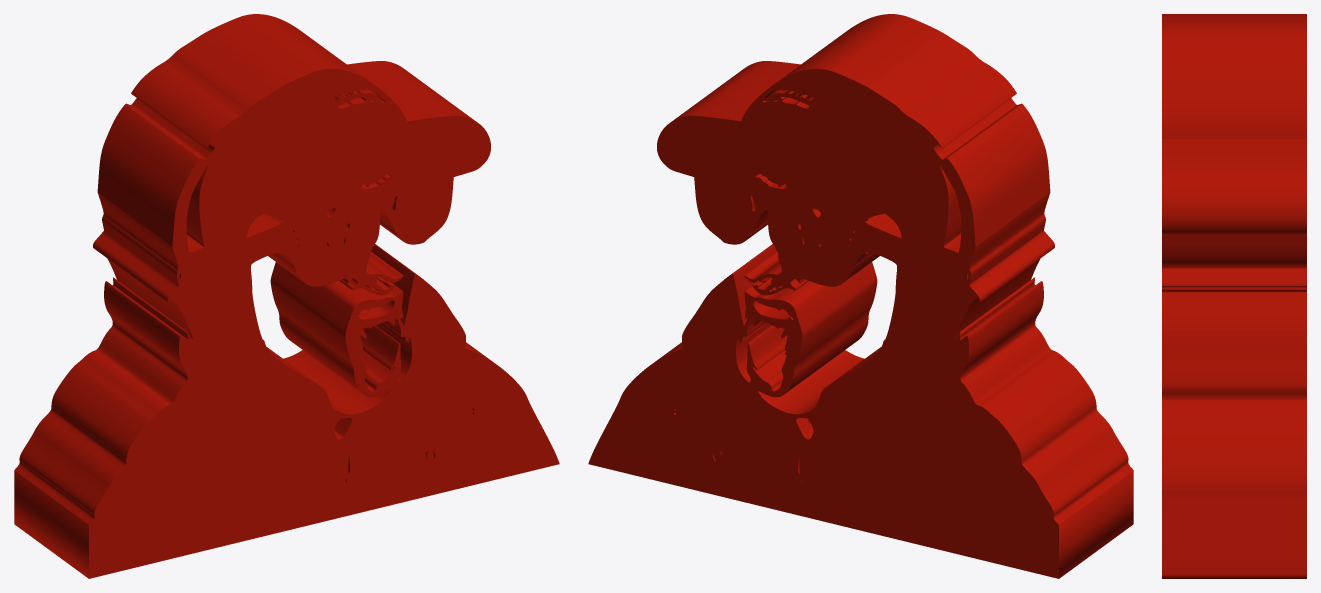
File: daxiklez.glb
The picture shows the model from 3 angles, left to right: view 1: azimuth 30°, elevation 25°; view 2: azimuth 150°, elevation 25°; view 3: azimuth 270°, elevation 25°; orthographic projection. The views are drawn at different scales.
Parts seen in each view (by area): view 1: Curve; view 2: Curve; view 3: Curve.
Part boxes in pixels (x1,y1,x2,y2): Curve: (14, 14, 559, 578); Curve: (588, 14, 1133, 578); Curve: (1162, 14, 1306, 578).
Bounding box in the file's own units: 3.65 × 3.35 × 1.01.
